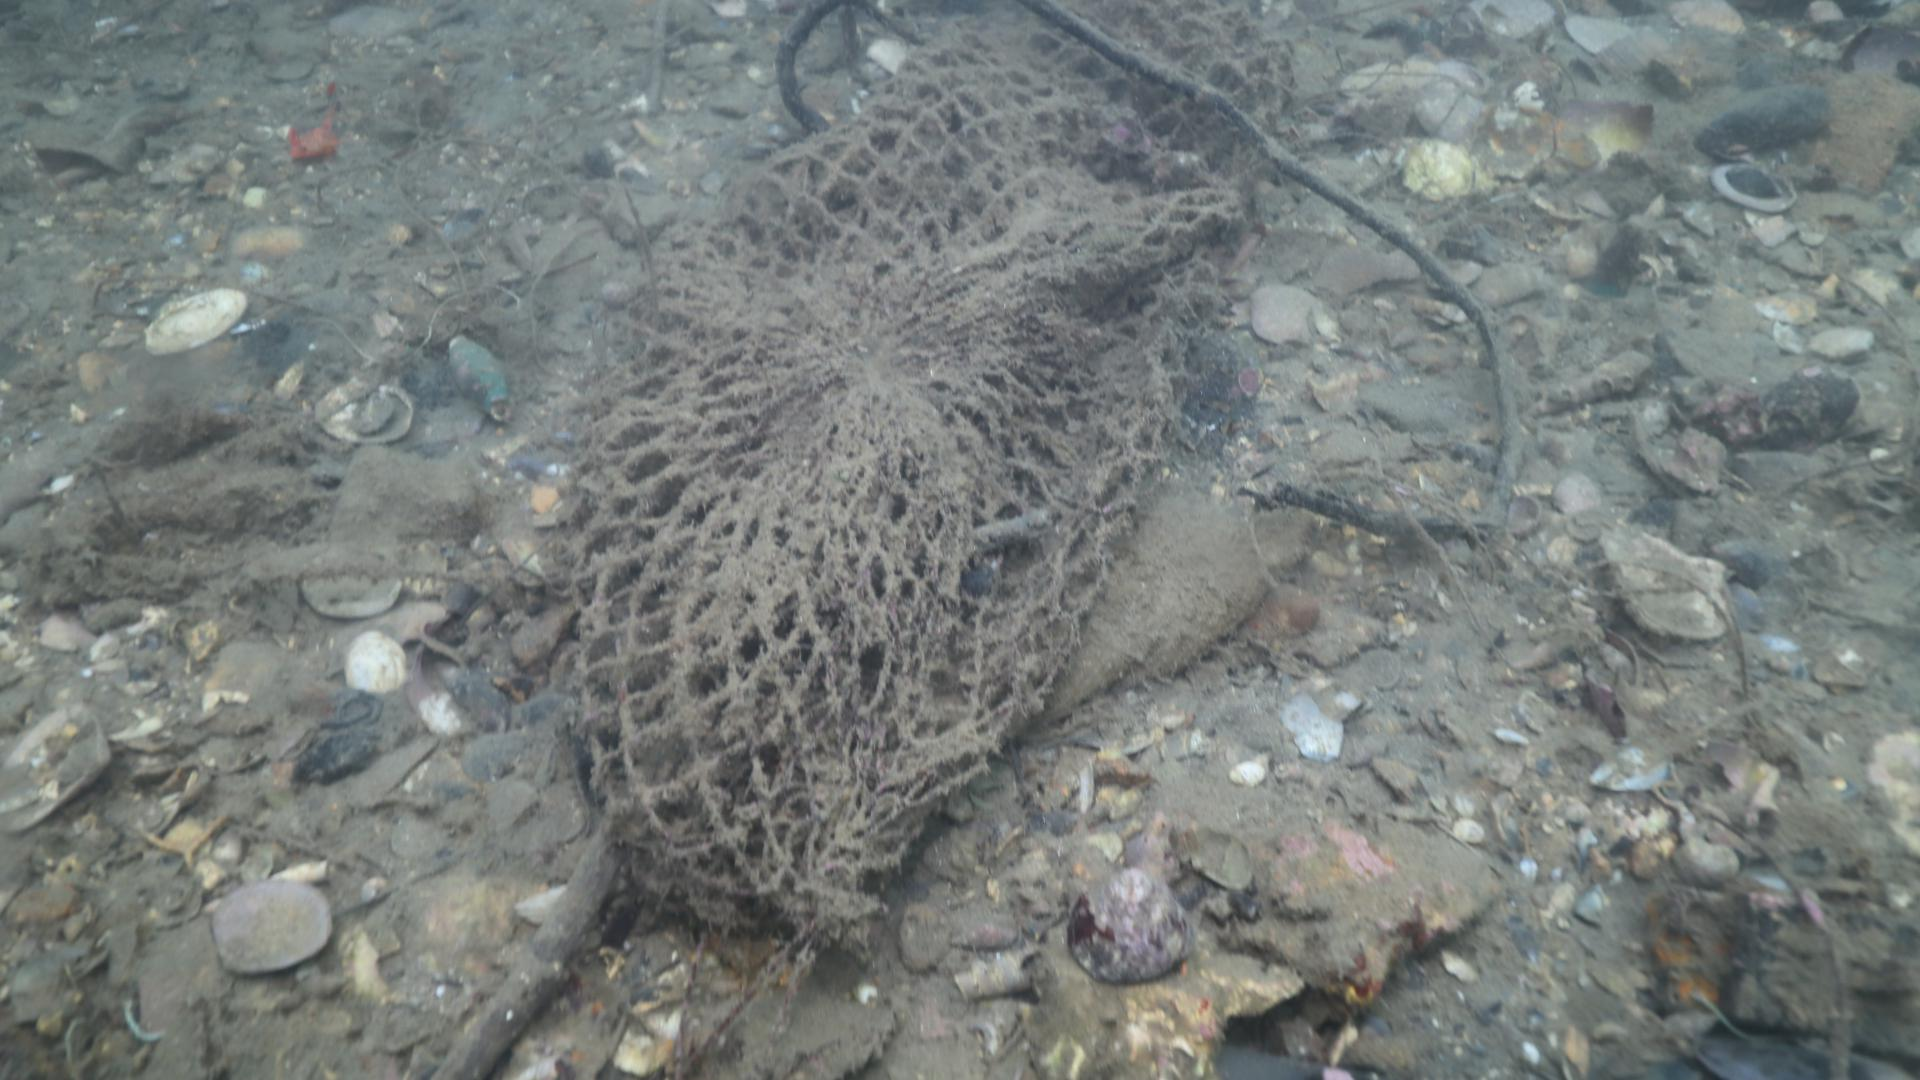fish net: (556, 0, 1298, 951)
